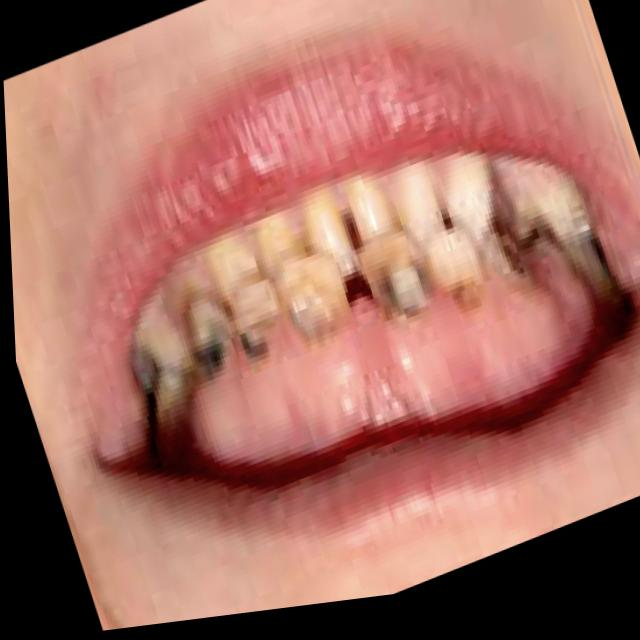cariess: (504, 219, 610, 282), (188, 304, 266, 371), (371, 244, 425, 310)
